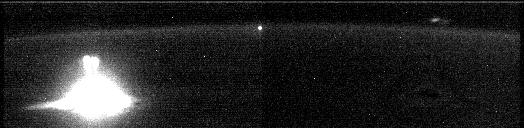positive: (77, 53, 104, 79)
